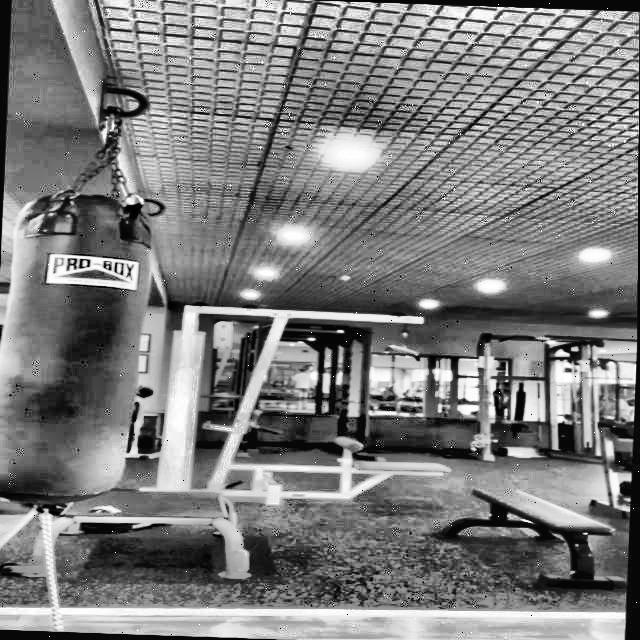boxing-bag: (0, 79, 154, 515)
